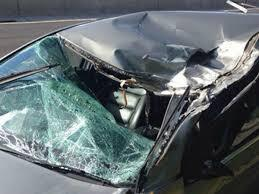Front-Windscreen-Damage: (0, 33, 188, 193)
roof-dent: (58, 8, 258, 94)
